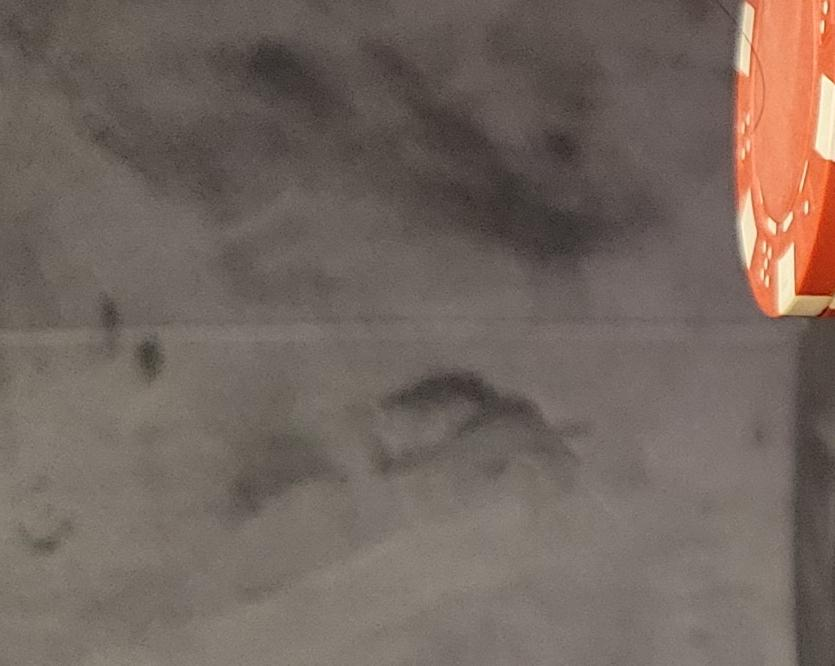Chip: (1, 400, 456, 666)
